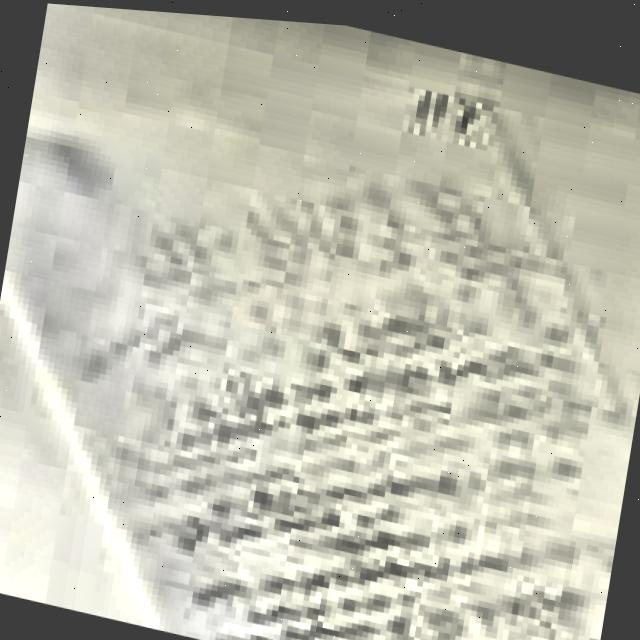paper: (5, 80, 635, 640)
